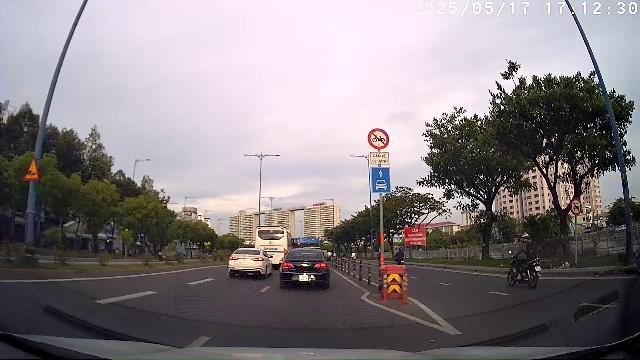103a-cam-oto: (570, 198, 582, 215)
